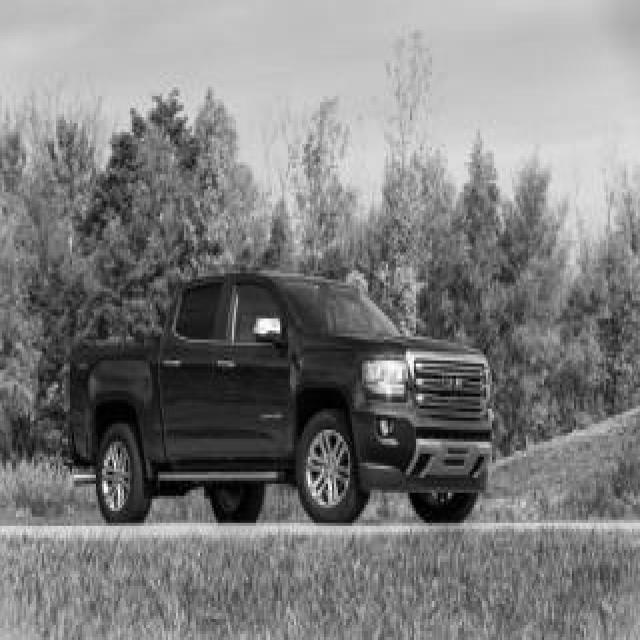Car: (66, 272, 489, 522)
